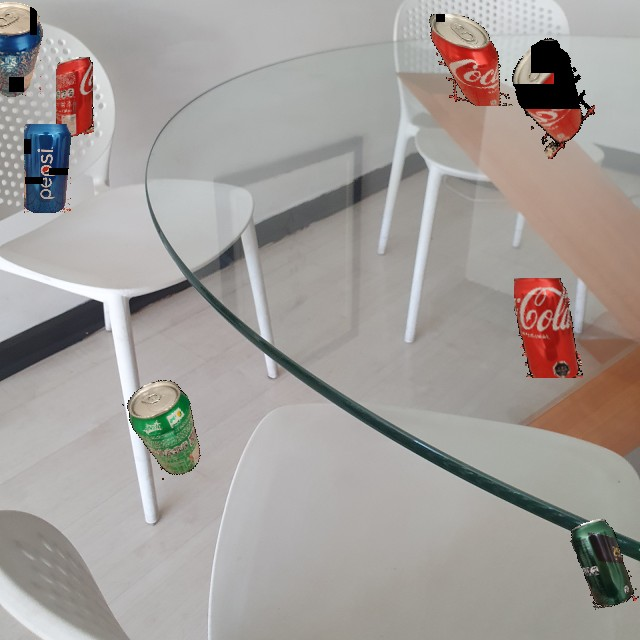coca cola: (500, 36, 595, 159), (421, 14, 517, 106), (514, 278, 583, 378), (56, 57, 94, 139)
pepsi: (24, 124, 71, 213), (0, 2, 43, 97)
schweppes: (567, 516, 640, 611)
sprite: (118, 372, 215, 485)
